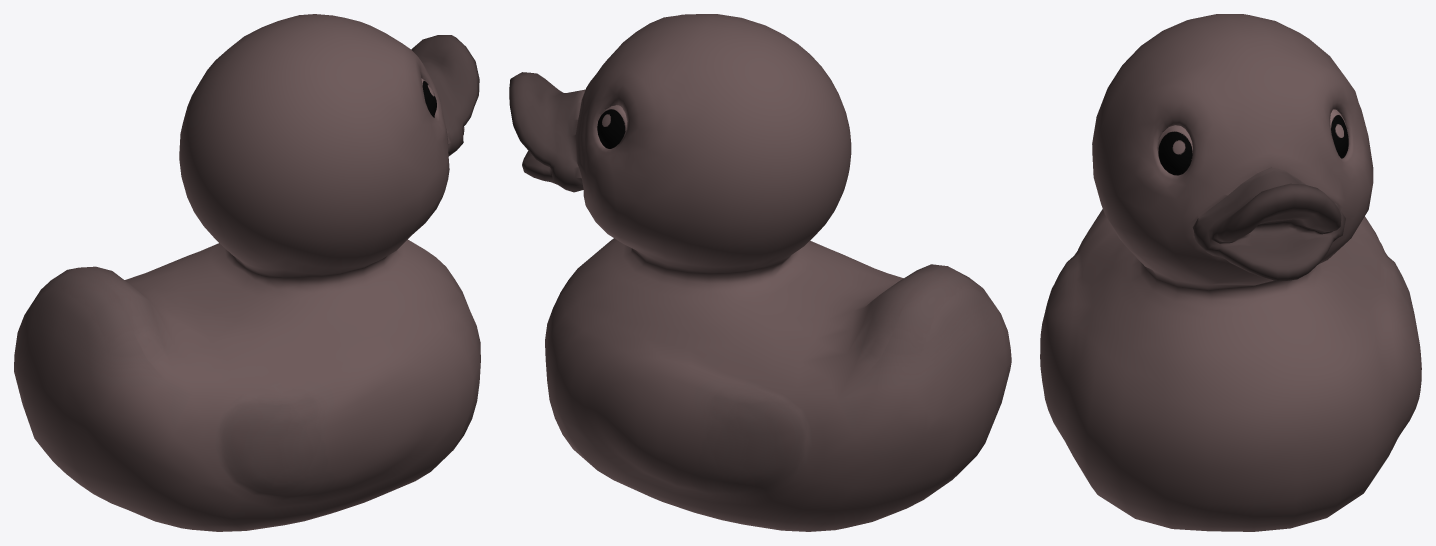
File: animal_wolf.dae
3 renders of one model, left to right at view 1: azimuth 30°, elevation 25°; view 2: azimuth 150°, elevation 25°; view 3: azimuth 270°, elevation 25°, orthographic. The views are drawn at different scales.
Visible parts, largest first — view 1: LOD3sp; view 2: LOD3sp; view 3: LOD3sp.
Part boxes in pixels (x1=…): LOD3sp: x1=14, y1=14, x2=480, y2=531; LOD3sp: x1=509, y1=14, x2=1011, y2=531; LOD3sp: x1=1040, y1=14, x2=1421, y2=531.
Size of the model in its own units: 165 by 154 by 115.
1 material, 1 textured.
